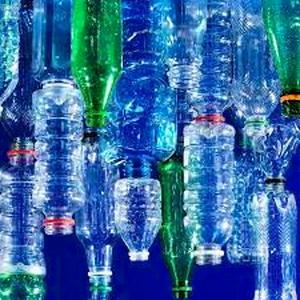Plastic: (30, 83, 85, 239), (182, 120, 236, 264), (111, 180, 164, 262)
